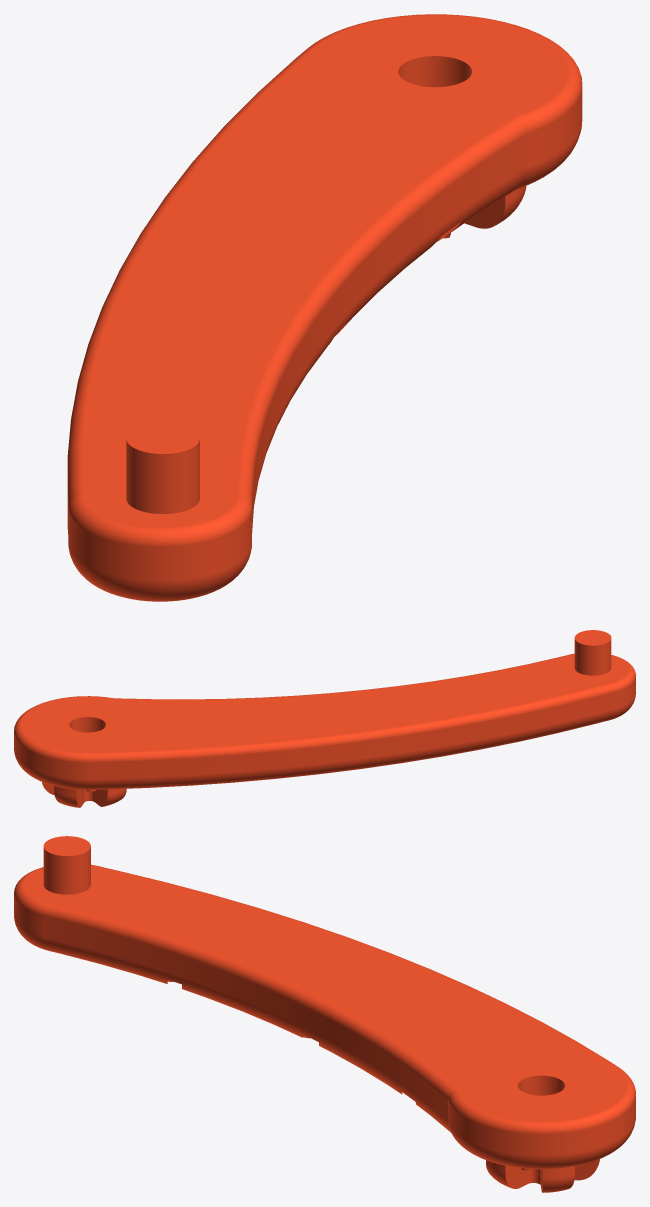
The model's file is part3_parca - PartBody.obj.
3 views of the same model, one above another, from view 1: azimuth 30°, elevation 25°; view 2: azimuth 150°, elevation 25°; view 3: azimuth 270°, elevation 25° (orthographic). The views are drawn at different scales.
Parts seen in each view (by area): view 1: mesh2, mesh5, mesh6, mesh8, mesh7, mesh1, mesh3, mesh12, mesh16, mesh4, mesh9, mesh14 (+2 smaller); view 2: mesh2, mesh10, mesh11, mesh7, mesh9, mesh1, mesh4, mesh13, mesh5, mesh0, mesh14, mesh8 (+1 smaller); view 3: mesh2, mesh6, mesh5, mesh16, mesh9, mesh4, mesh13, mesh1, mesh7, mesh14, mesh0, mesh8 (+1 smaller).
Part boxes in pixels (x1,y1,x2,y2): mesh2: [82, 15, 567, 527]; mesh5: [237, 116, 527, 503]; mesh6: [252, 134, 527, 531]; mesh8: [68, 508, 252, 580]; mesh7: [67, 47, 314, 503]; mesh1: [126, 439, 199, 513]; mesh3: [68, 492, 252, 546]; mesh12: [68, 544, 251, 601]; mesh16: [252, 167, 527, 532]; mesh4: [307, 14, 582, 133]; mesh9: [527, 88, 582, 166]; mesh14: [398, 56, 471, 87]; mesh2: [21, 654, 628, 752]; mesh10: [93, 693, 609, 779]; mesh11: [93, 710, 609, 789]; mesh7: [93, 684, 609, 762]; mesh9: [14, 733, 93, 779]; mesh1: [574, 639, 611, 675]; mesh4: [14, 696, 112, 762]; mesh13: [14, 750, 93, 789]; mesh5: [113, 655, 567, 699]; mesh0: [574, 630, 611, 645]; mesh14: [69, 717, 105, 732]; mesh8: [609, 677, 635, 709]; mesh2: [23, 865, 626, 1121]; mesh6: [46, 916, 447, 1121]; mesh5: [46, 904, 456, 1099]; mesh16: [46, 937, 450, 1132]; mesh9: [448, 1097, 635, 1155]; mesh4: [448, 1065, 635, 1134]; mesh13: [448, 1118, 635, 1169]; mesh1: [43, 847, 90, 894]; mesh7: [102, 867, 615, 1065]; mesh14: [518, 1075, 564, 1095]; mesh0: [43, 836, 90, 855]; mesh8: [14, 895, 46, 937].
Size of the model in its own units: 0.1328 by 0.03 by 0.1316.
